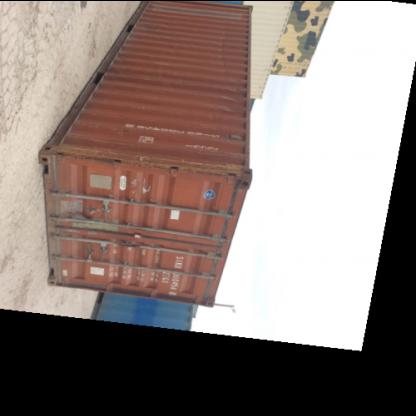Damage: (61, 144, 158, 168), (60, 202, 120, 233), (182, 157, 240, 179), (140, 17, 180, 45), (218, 18, 232, 72), (219, 86, 239, 120), (126, 176, 154, 196)
